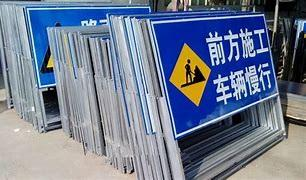sign: (157, 13, 287, 134)
